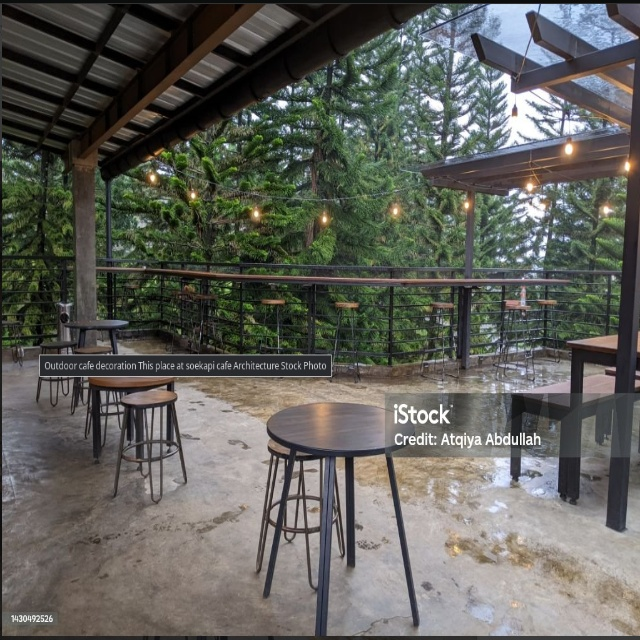obstacle: (266, 403, 439, 631), (113, 387, 197, 500)
